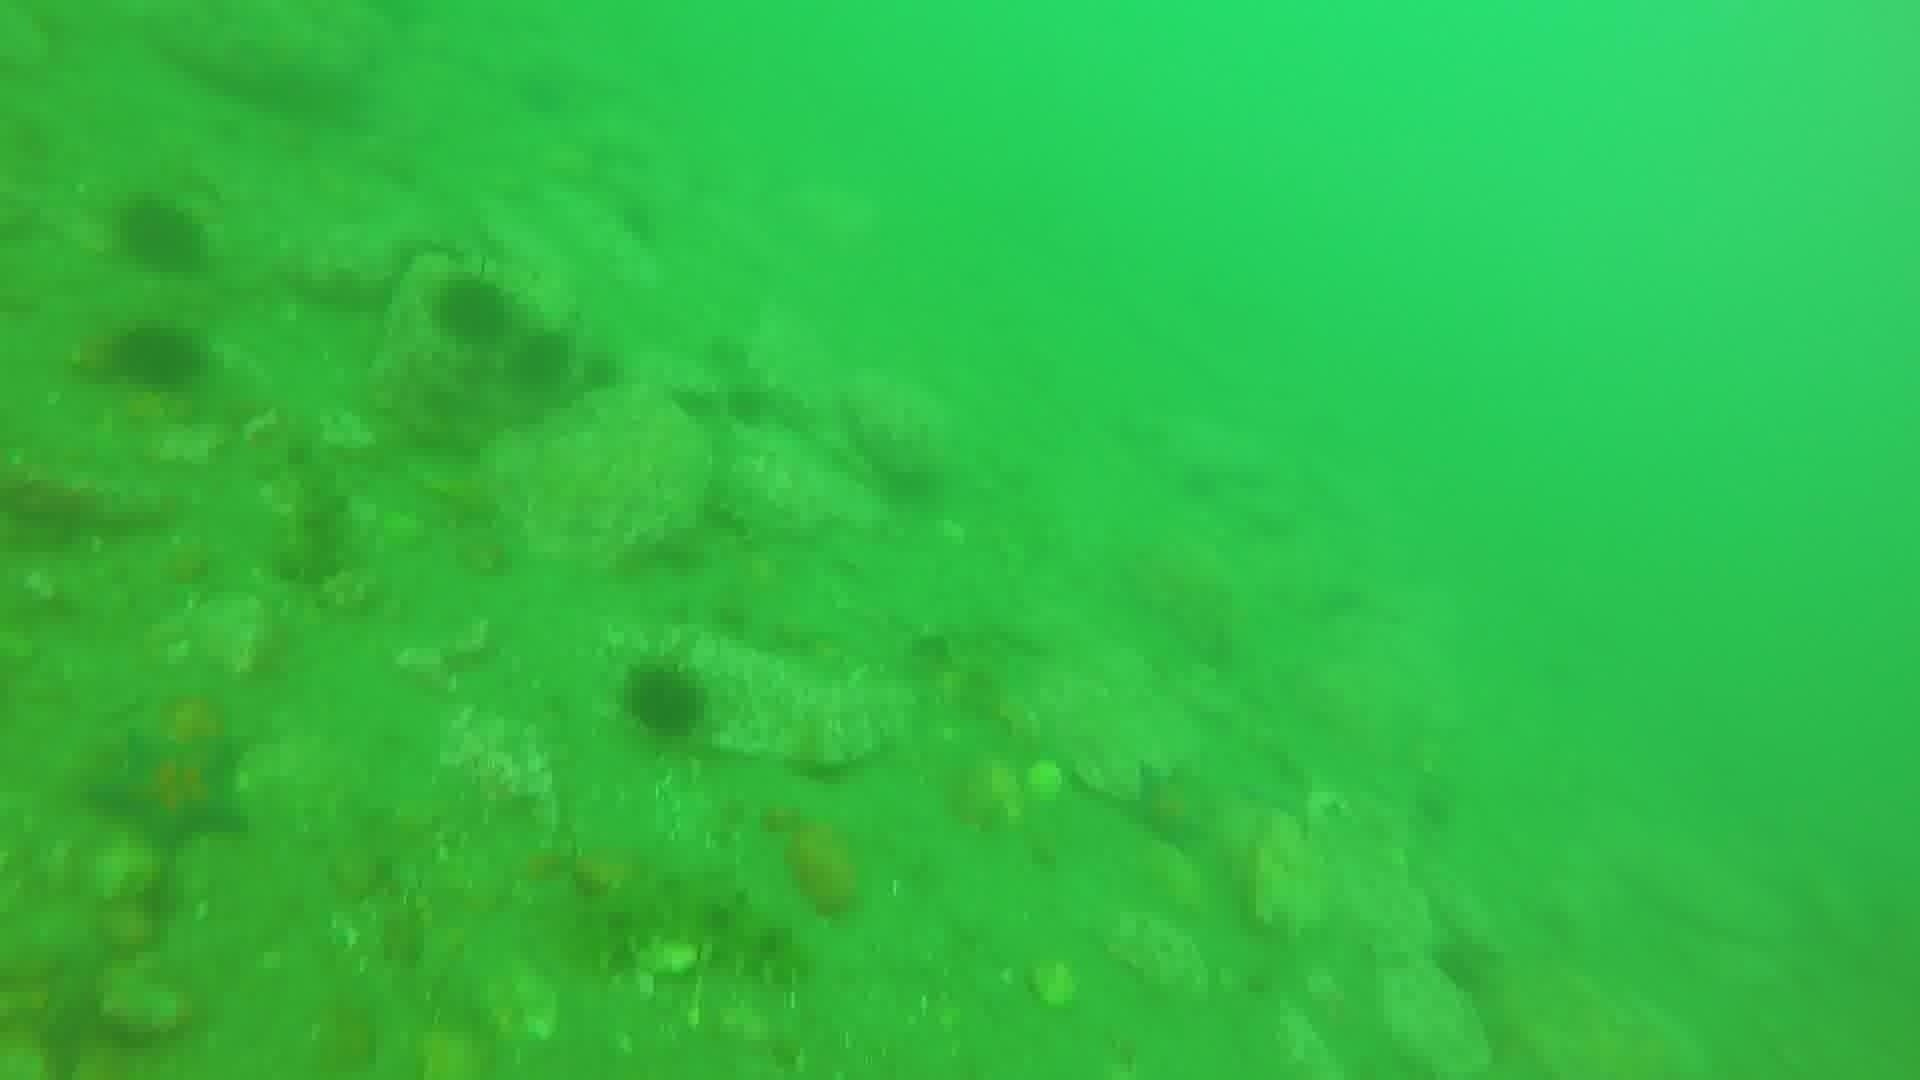echinus: (111, 193, 210, 280), (102, 319, 208, 398), (618, 658, 712, 744), (429, 272, 517, 349), (504, 326, 579, 400), (572, 345, 626, 400)
holothurian: (560, 866, 815, 988), (261, 410, 357, 591)
starfish: (84, 723, 255, 856), (1124, 760, 1224, 855)
